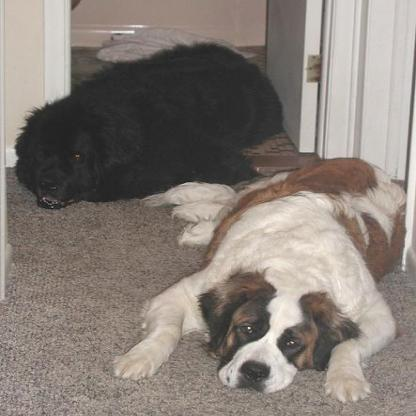Saint_Bernard: (108, 154, 405, 407), (13, 40, 282, 209)
